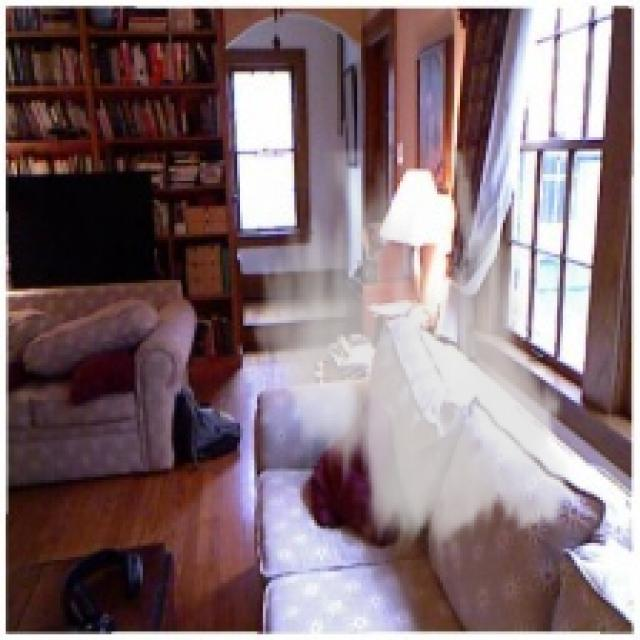smoke: (243, 148, 586, 563)
